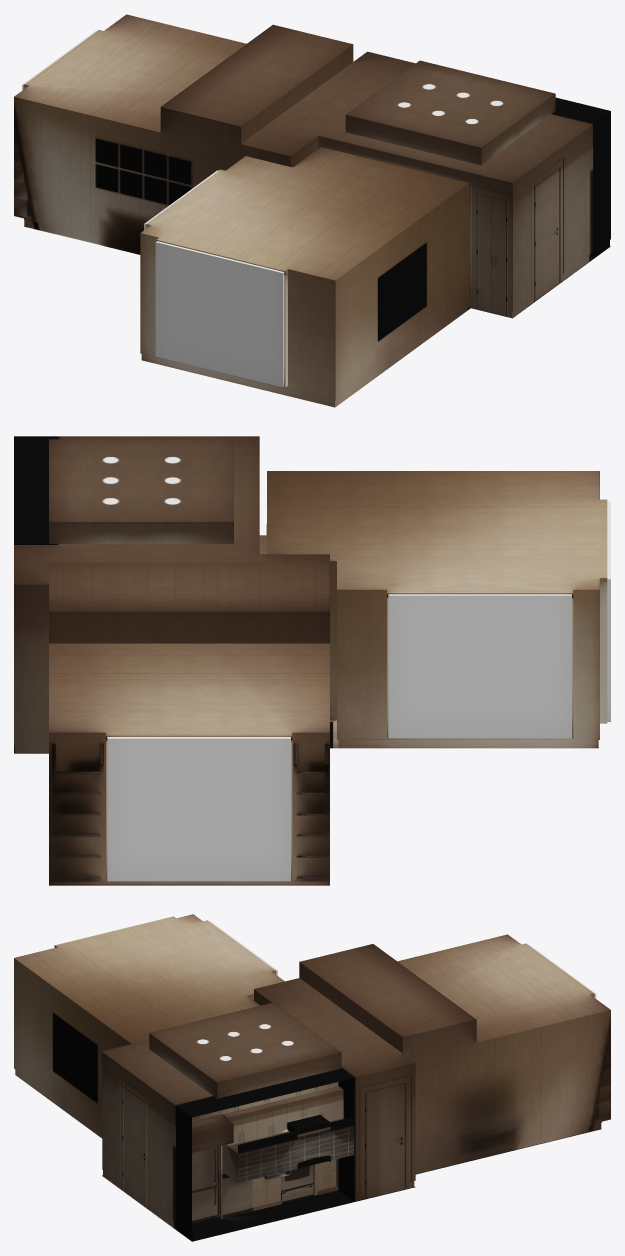
The model's file is Toren1BD.obj.
3 renders of one model, top to bottom at view 1: azimuth 30°, elevation 25°; view 2: azimuth 150°, elevation 25°; view 3: azimuth 270°, elevation 25°, orthographic. The views are drawn at different scales.
Visible parts, largest first — view 1: Main; view 2: Main, Decor; view 3: Main, Decor.
Part boxes in pixels (x1=…): Main: x1=14, y1=14, x2=610, y2=407; Main: x1=14, y1=436, x2=610, y2=885; Decor: x1=52, y1=437, x2=328, y2=878; Main: x1=14, y1=914, x2=610, y2=1241; Decor: x1=176, y1=1082, x2=353, y2=1229.
Bounding box in the file's own units: 9.65 × 3 × 11.56.
Materials: 3 (3 with a texture image).
